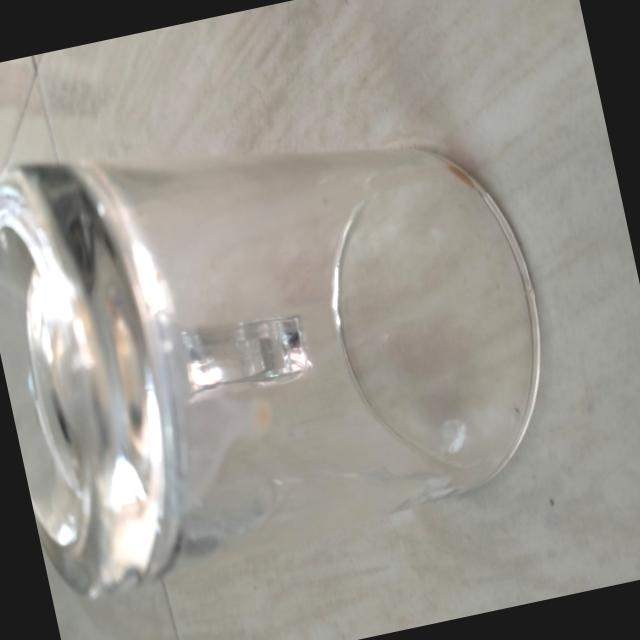glass-VX4N: (0, 60, 582, 610)
